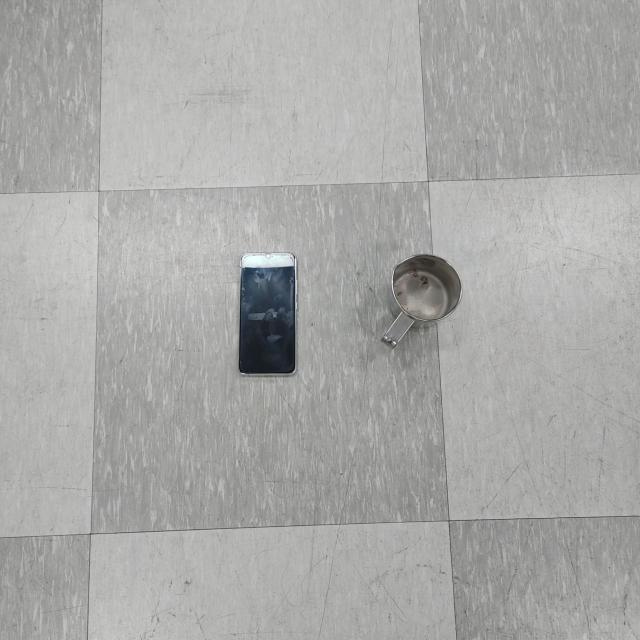cup: (380, 250, 462, 356)
phone: (238, 251, 299, 377)
